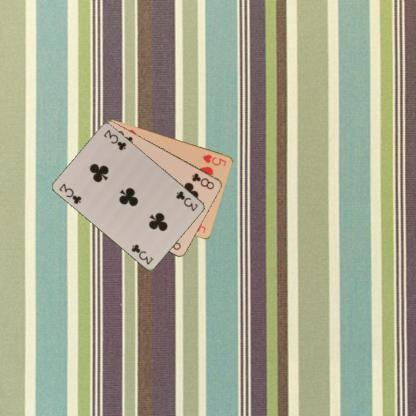3c: (174, 188, 200, 213), (56, 181, 82, 205)
5h: (200, 152, 228, 168)
8c: (188, 170, 216, 191)
